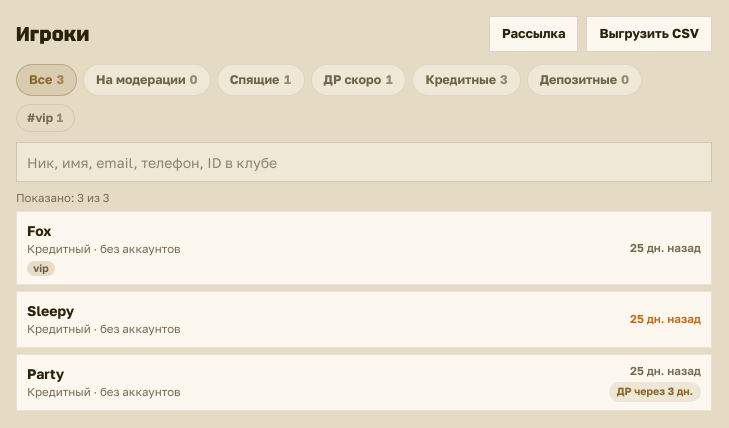
Test: AdminPlayersPage › filters by segment and tag
Expected: the number of links with test id "player-row" is 3, [16, 211, 712, 285]; [16, 291, 712, 348]; [16, 354, 712, 410]
Click the button "Спящие1": (261, 80) [217, 64, 304, 96]
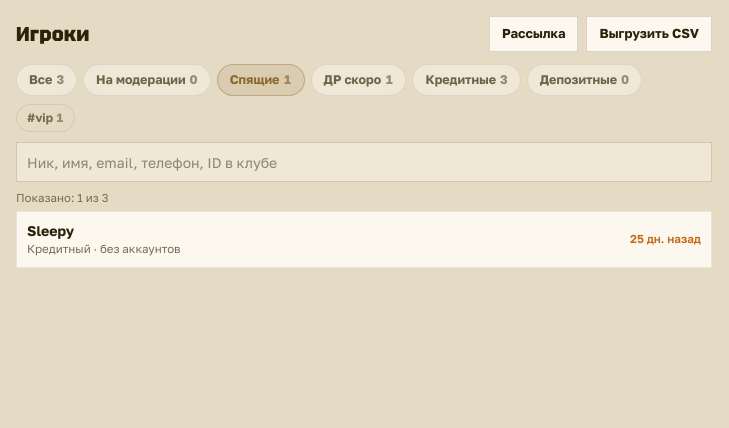
Expected: the text "Sleepy" is shown, [27, 220, 74, 241]
Now the number of links with test id "player-row" is 1, box [16, 211, 712, 268]
Click the button "ДР скоро1": (358, 80) [310, 64, 406, 96]
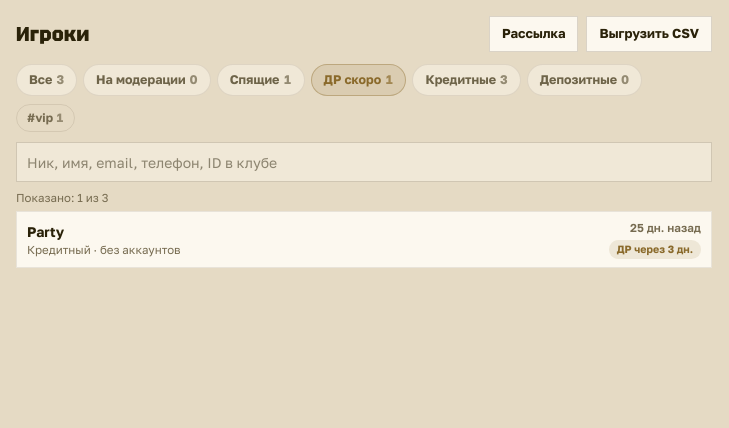
Now the text "ДР через 3 дн." is shown, box [609, 240, 701, 259]
Click the button "Все3": (46, 80) [16, 64, 77, 96]
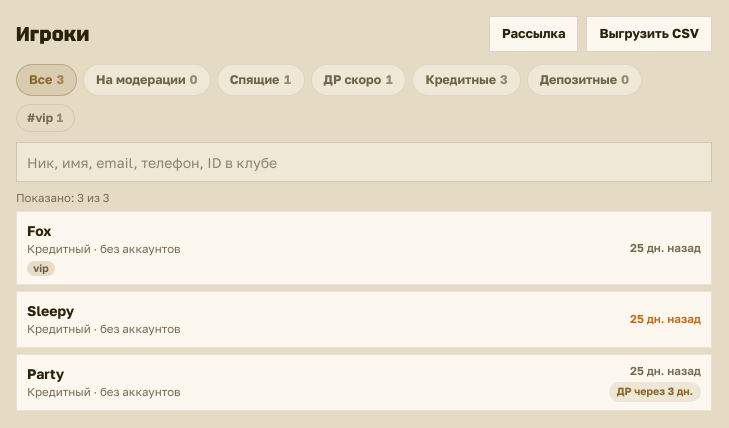
Click the button "#vip 1": (45, 118) [16, 104, 75, 132]
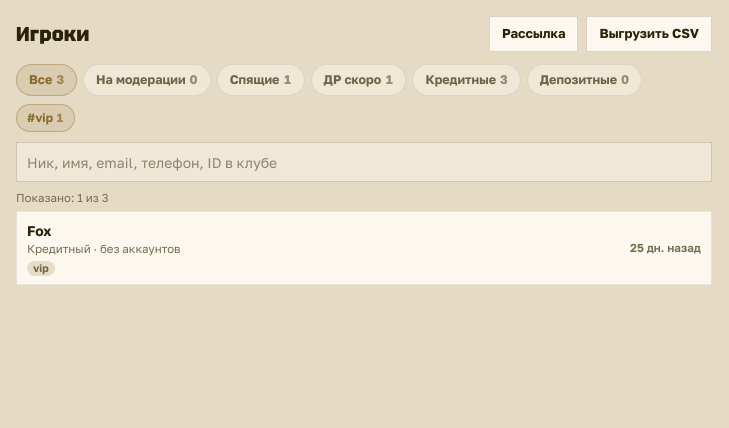
Now the number of links with test id "player-row" is 1, box [16, 211, 712, 285]
